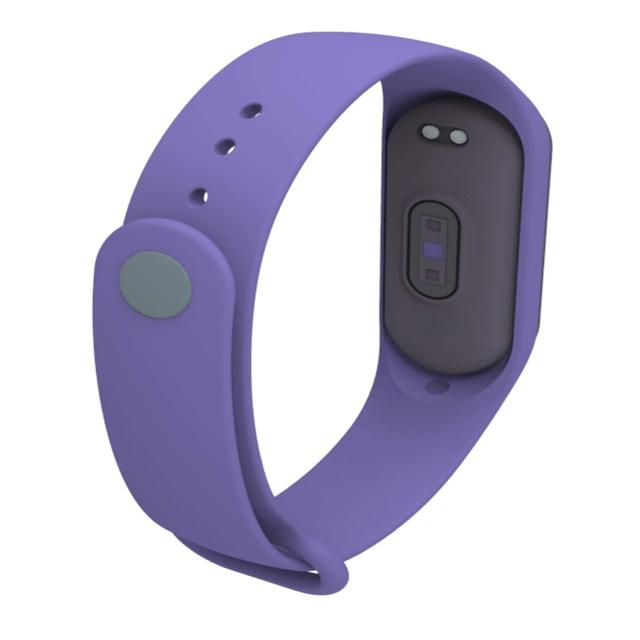bracelet: (54, 21, 588, 606)
